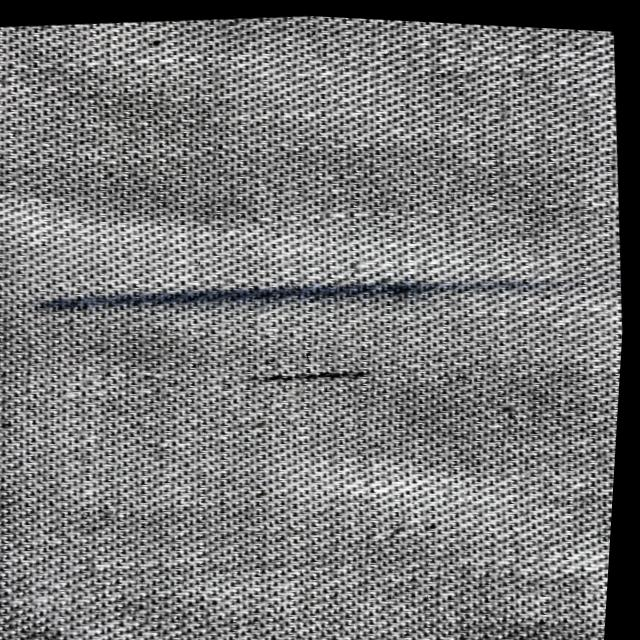Hole: (260, 352, 386, 396)
